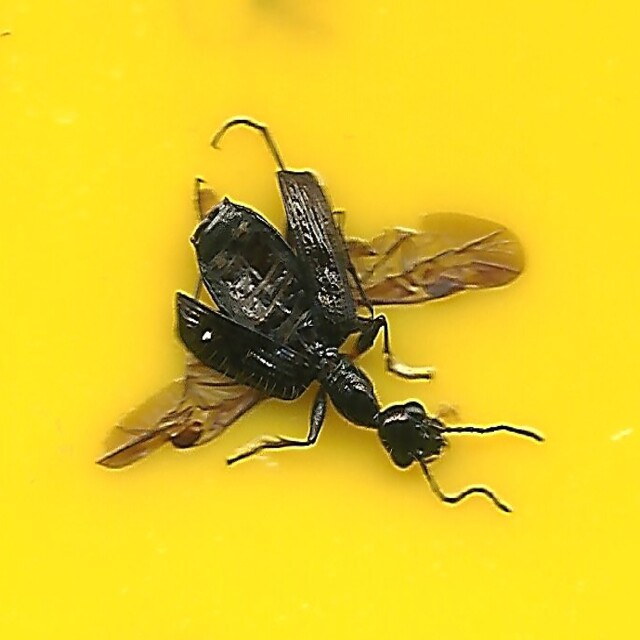Coleoptera: (93, 116, 547, 524)
